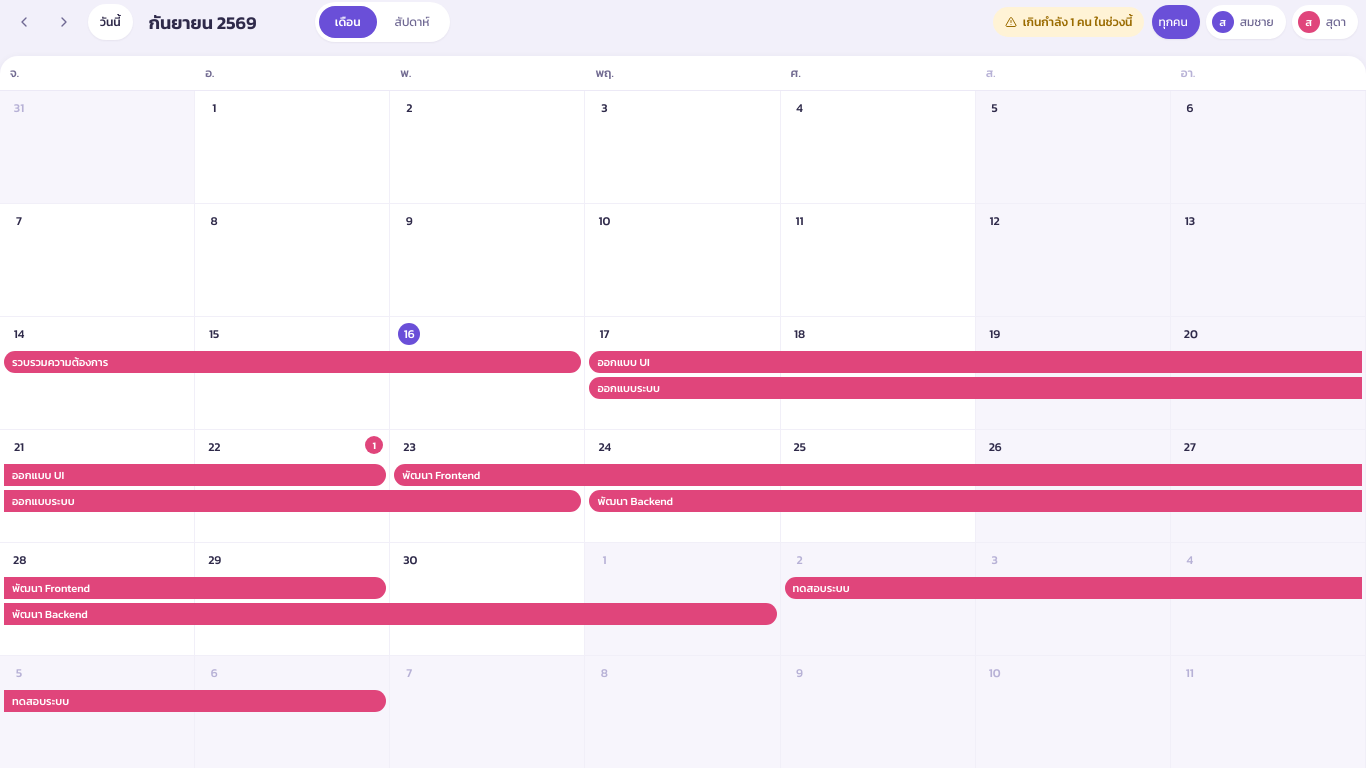
Test: CalendarPage › switches to the week-by-resource view and navigates weeks
What coordinates should you click on to do the following:
click the radio button labelled "สัปดาห์"
I would click on:
 (412, 22)
Its box is x1=379 y1=6 x2=446 y2=38.
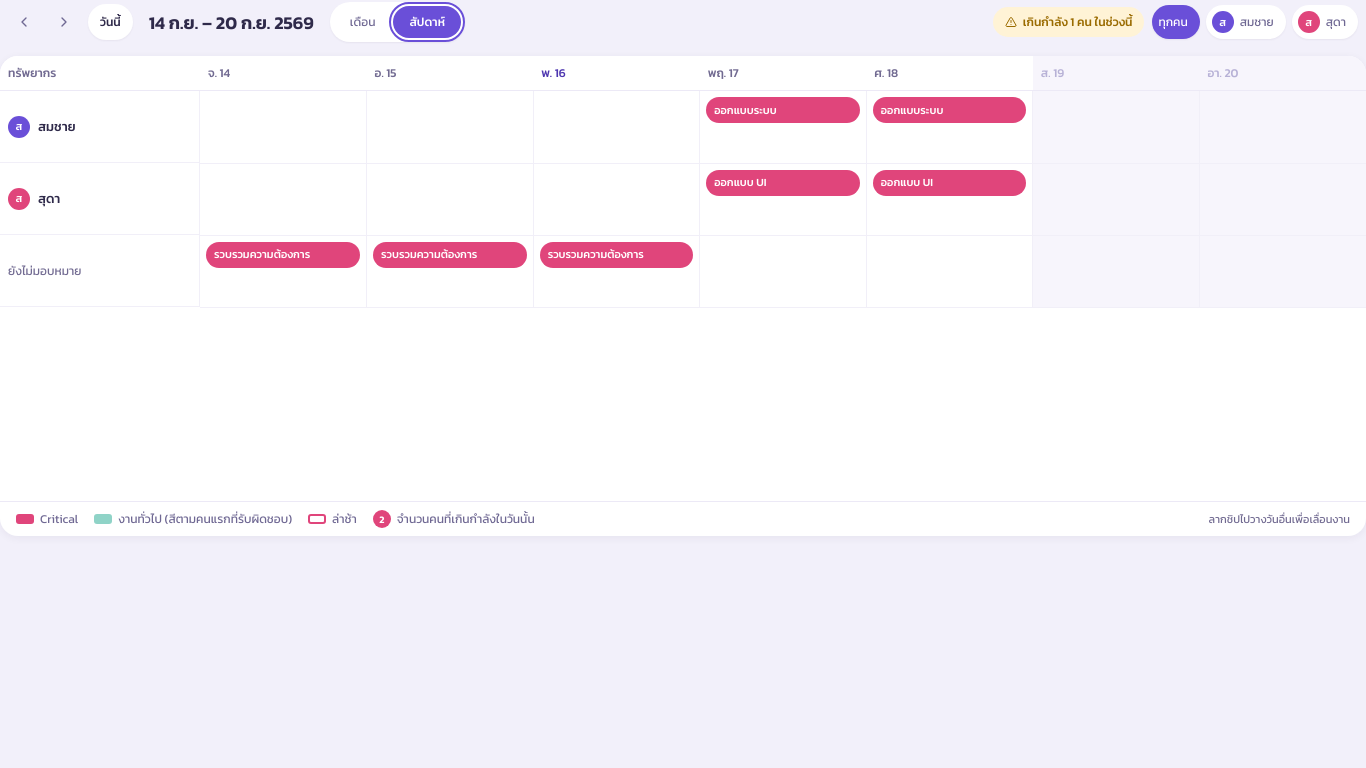
Expected: the 1st button with test id "week-chip-r2-t3" is shown, x1=706 y1=170 x2=860 y2=196
Now the heading with test id "calendar-title" reads "14 ก.ย. – 20 ก.ย. 2569", box x1=149 y1=8 x2=314 y2=36
Now the row with test id "week-row-none" shows "รวบรวมความต้องการ", box x1=206 y1=242 x2=360 y2=268
What coordinates should you click on to do the following:
click the button named "ช่วงถัดไป"
I would click on:
 (64, 22)
Its box is x1=48 y1=6 x2=80 y2=38.
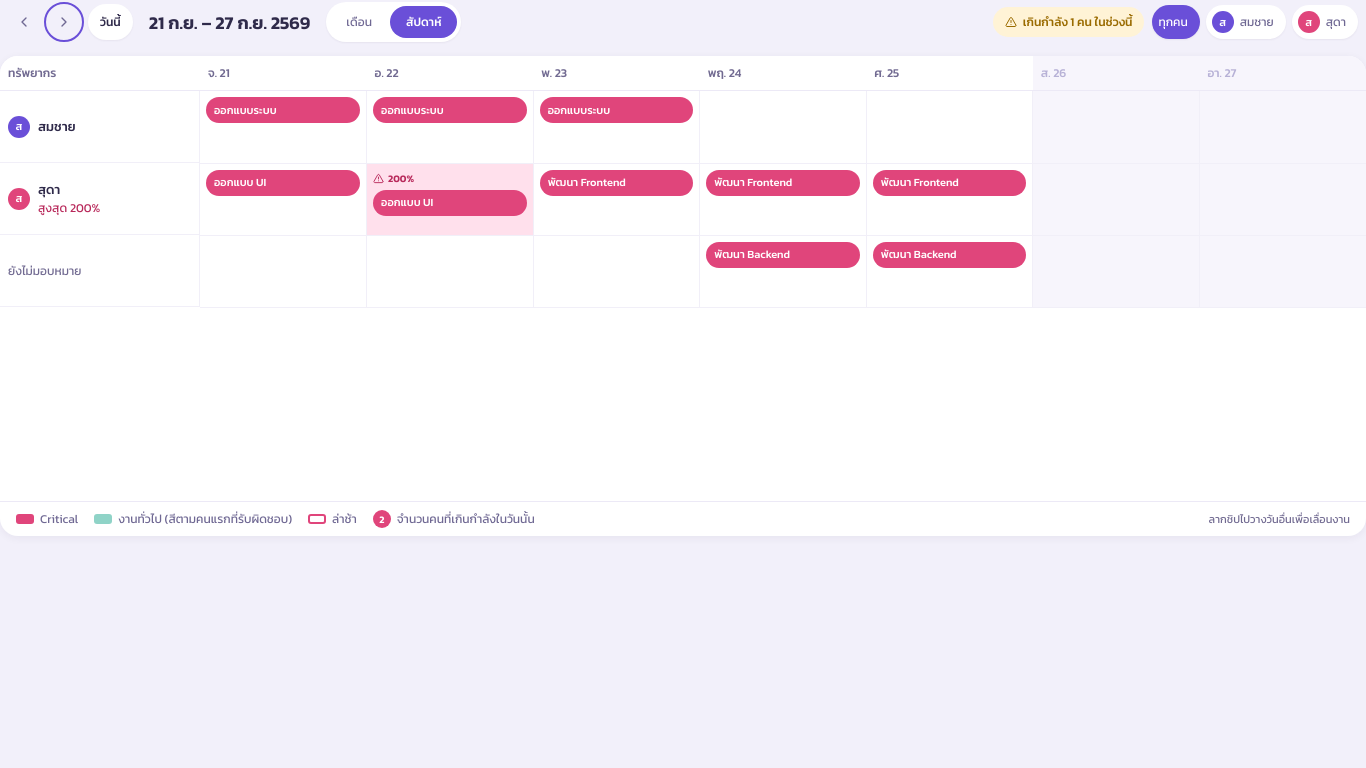
Now the heading with test id "calendar-title" reads "21 ก.ย. – 27 ก.ย. 2569", box x1=149 y1=8 x2=310 y2=36
Now the text "200%" is shown, box x1=373 y1=170 x2=414 y2=186
